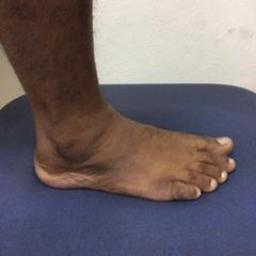Lateral View -Right Foot-: (20, 90, 241, 220)
